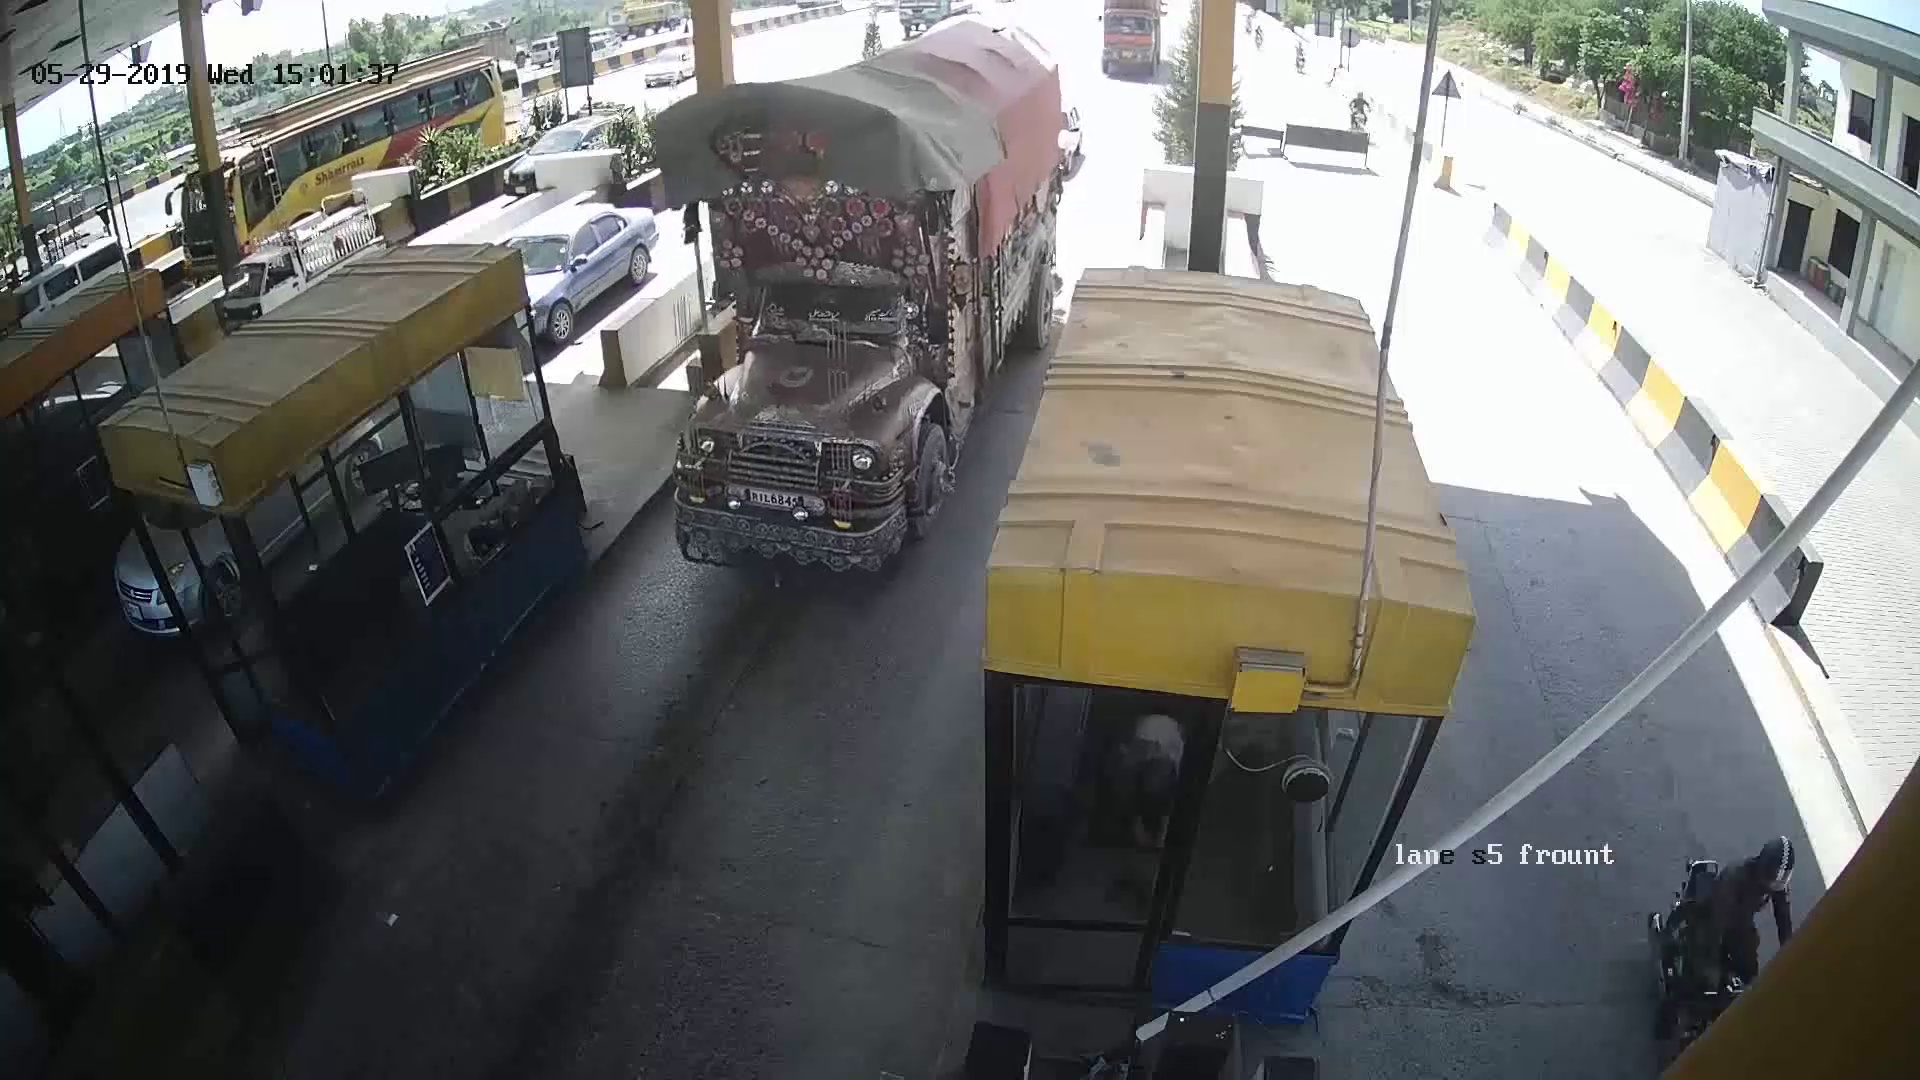truck: (658, 47, 1048, 571)
